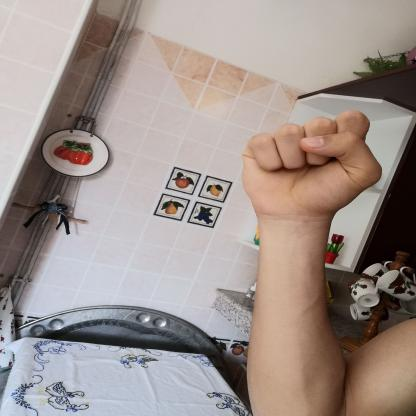SAD: (223, 100, 396, 229)
